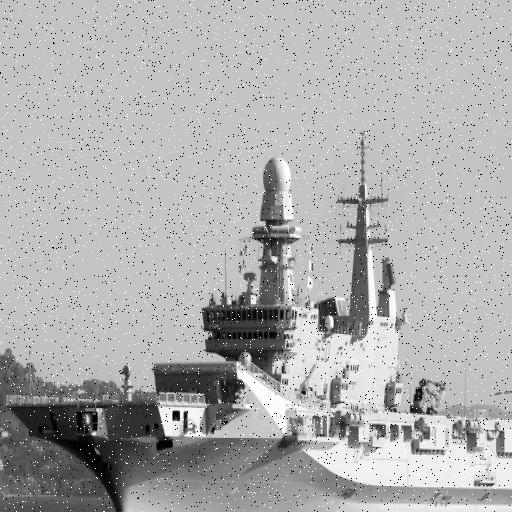Portanaves: (6, 122, 512, 512)
